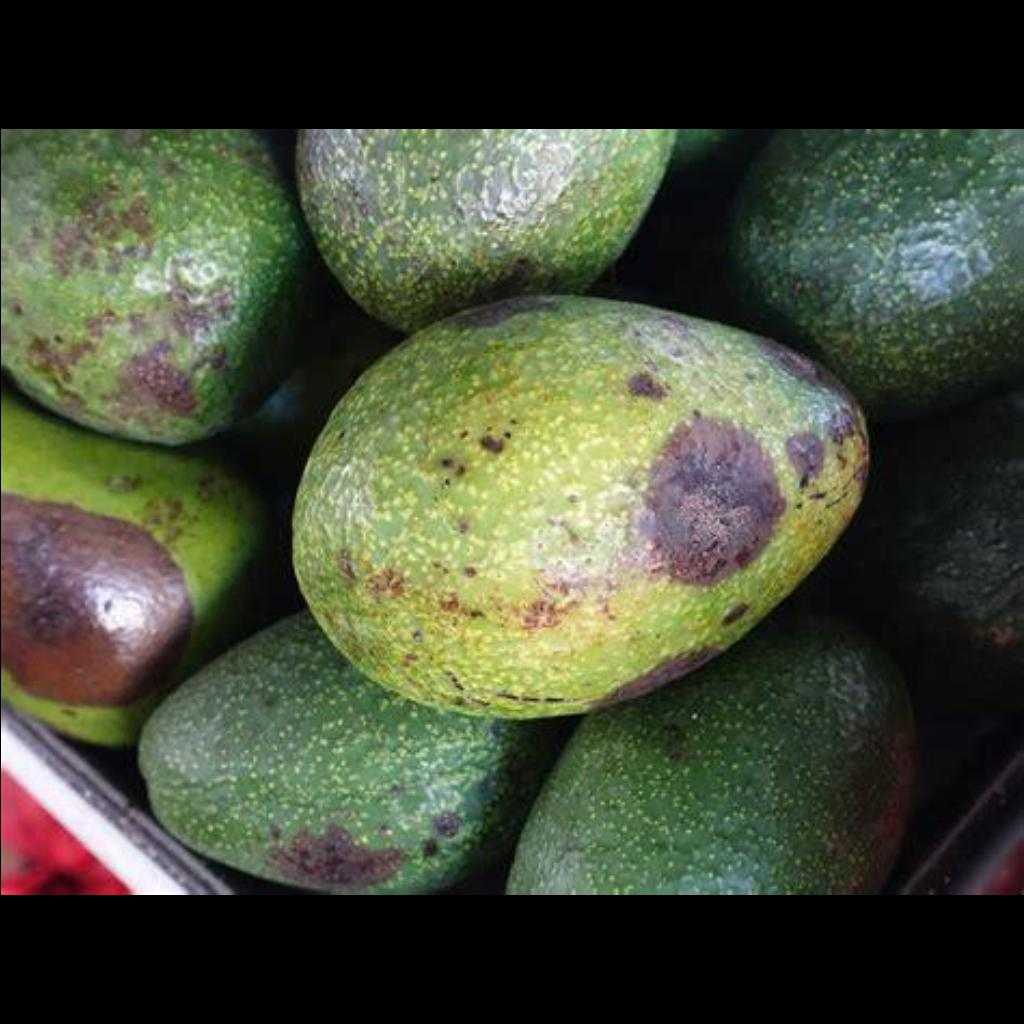Anthracnose: (288, 334, 866, 686), (0, 170, 238, 440), (0, 492, 206, 712)
